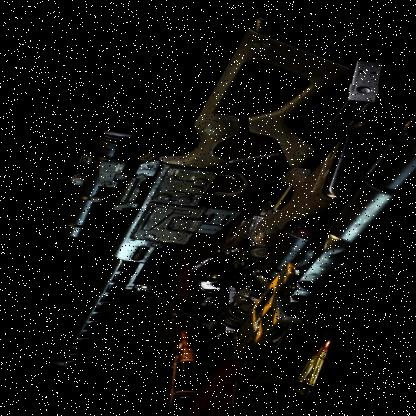rifle: (22, 12, 368, 392)
